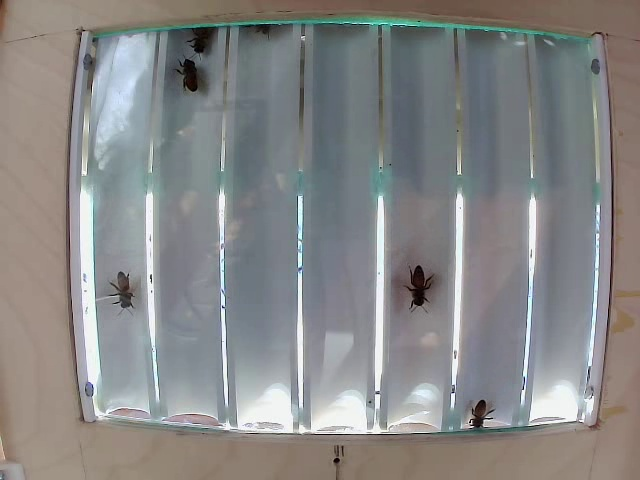bee: (399, 266, 436, 320), (175, 64, 214, 110), (468, 388, 499, 428), (102, 285, 149, 309)
